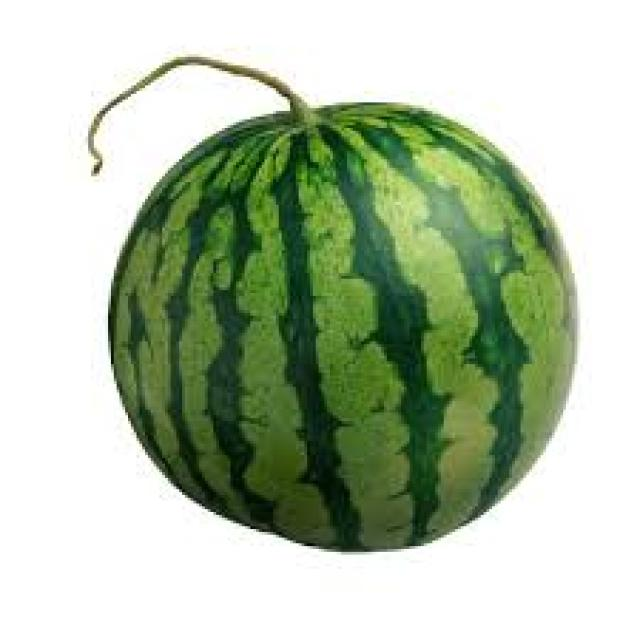Watermelon: (128, 110, 571, 538)
